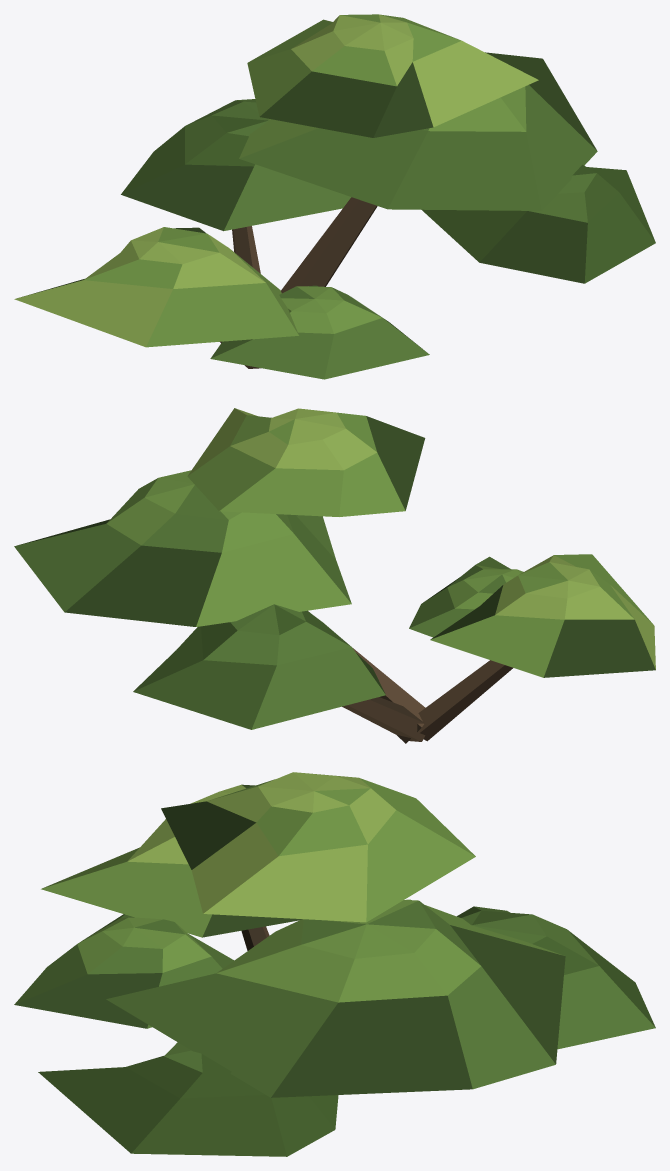
The model's file is bush-d.glb.
The picture shows the model from 3 angles, top to bottom: view 1: azimuth 30°, elevation 25°; view 2: azimuth 150°, elevation 25°; view 3: azimuth 270°, elevation 25°; orthographic projection. The views are drawn at different scales.
Parts seen in each view (by area): view 1: Bush_D; view 2: Bush_D; view 3: Bush_D.
Boxes of the visible parts, x1,y1,x2,y2 form: Bush_D: (14, 14, 655, 379); Bush_D: (14, 408, 655, 743); Bush_D: (14, 772, 655, 1156).
Size of the model in its own units: 1.56 by 0.7733 by 1.21.
Materials: 1 (1 with a texture image).
